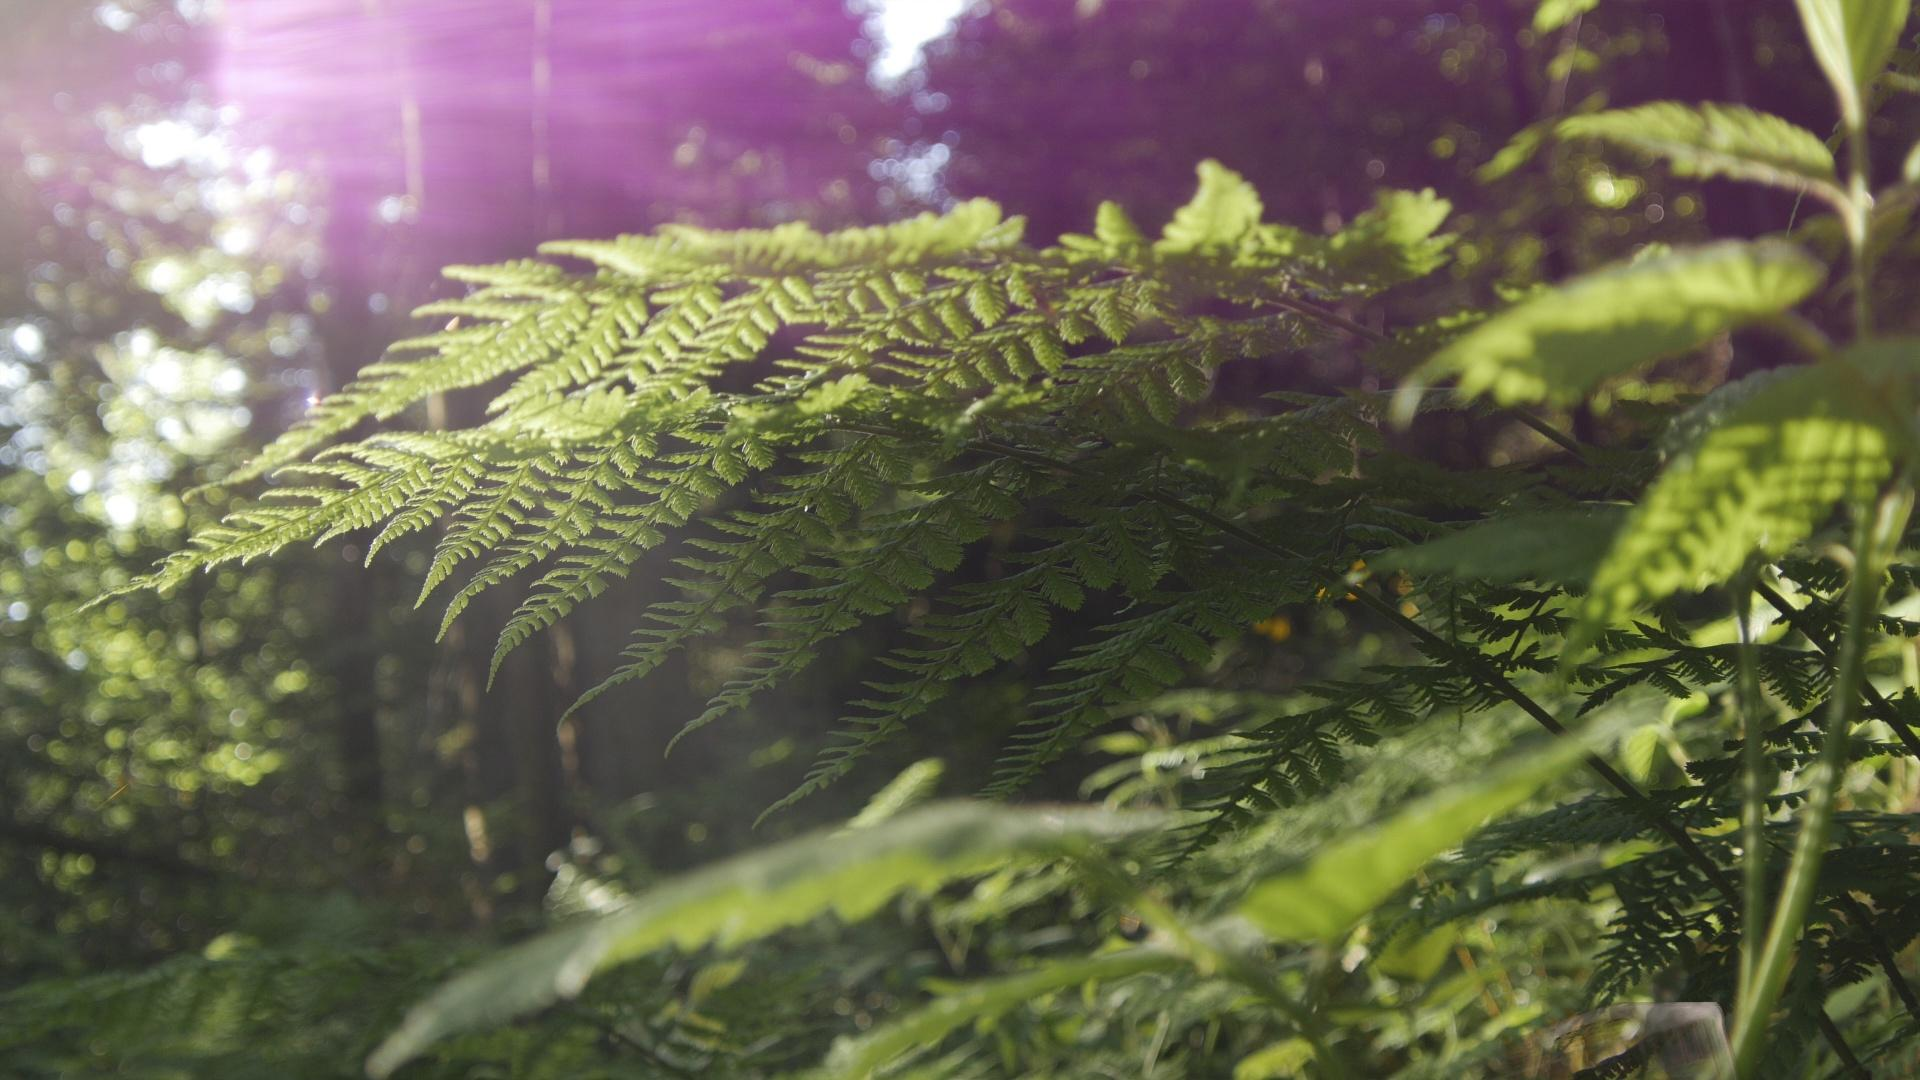penholder: (1457, 1002, 1857, 1080)
